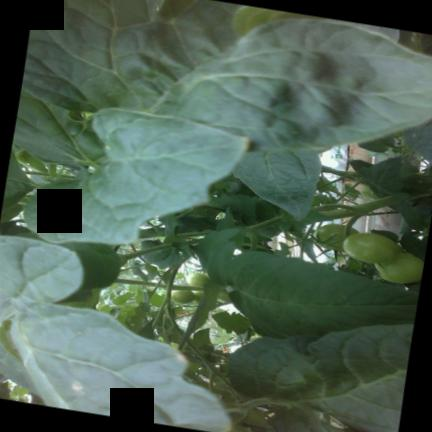6kp_peduncle: (330, 200, 377, 238)
6kp_petiole: (314, 201, 376, 219)
MainStem: (321, 195, 400, 219)
tomato: (343, 232, 403, 262), (374, 252, 423, 283), (313, 223, 358, 251), (186, 272, 210, 286), (171, 289, 195, 303), (193, 290, 203, 304)
